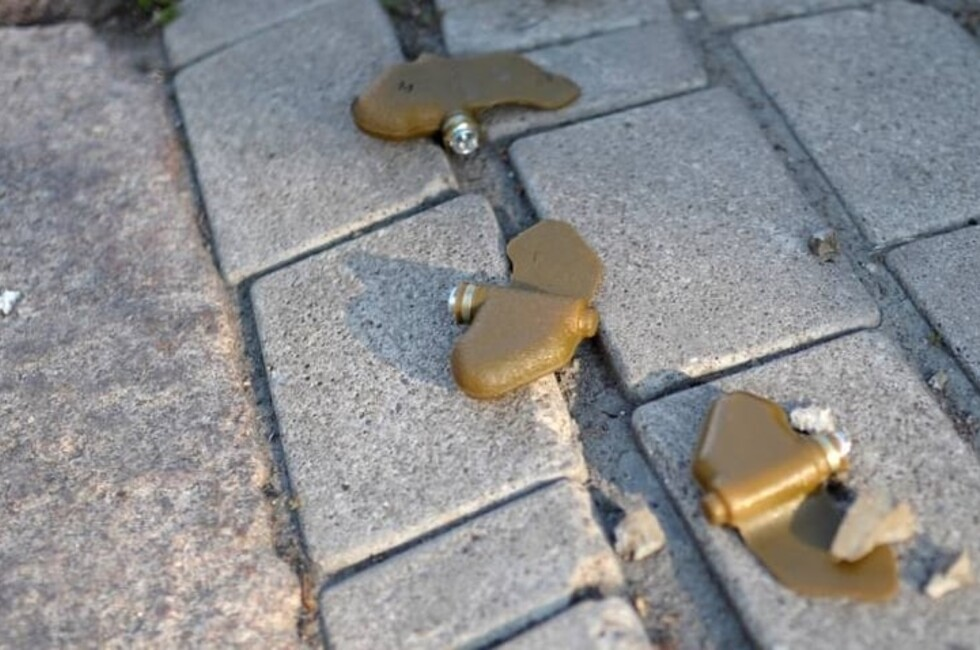butterfly: (690, 384, 913, 606), (440, 208, 614, 402), (344, 40, 589, 161)
